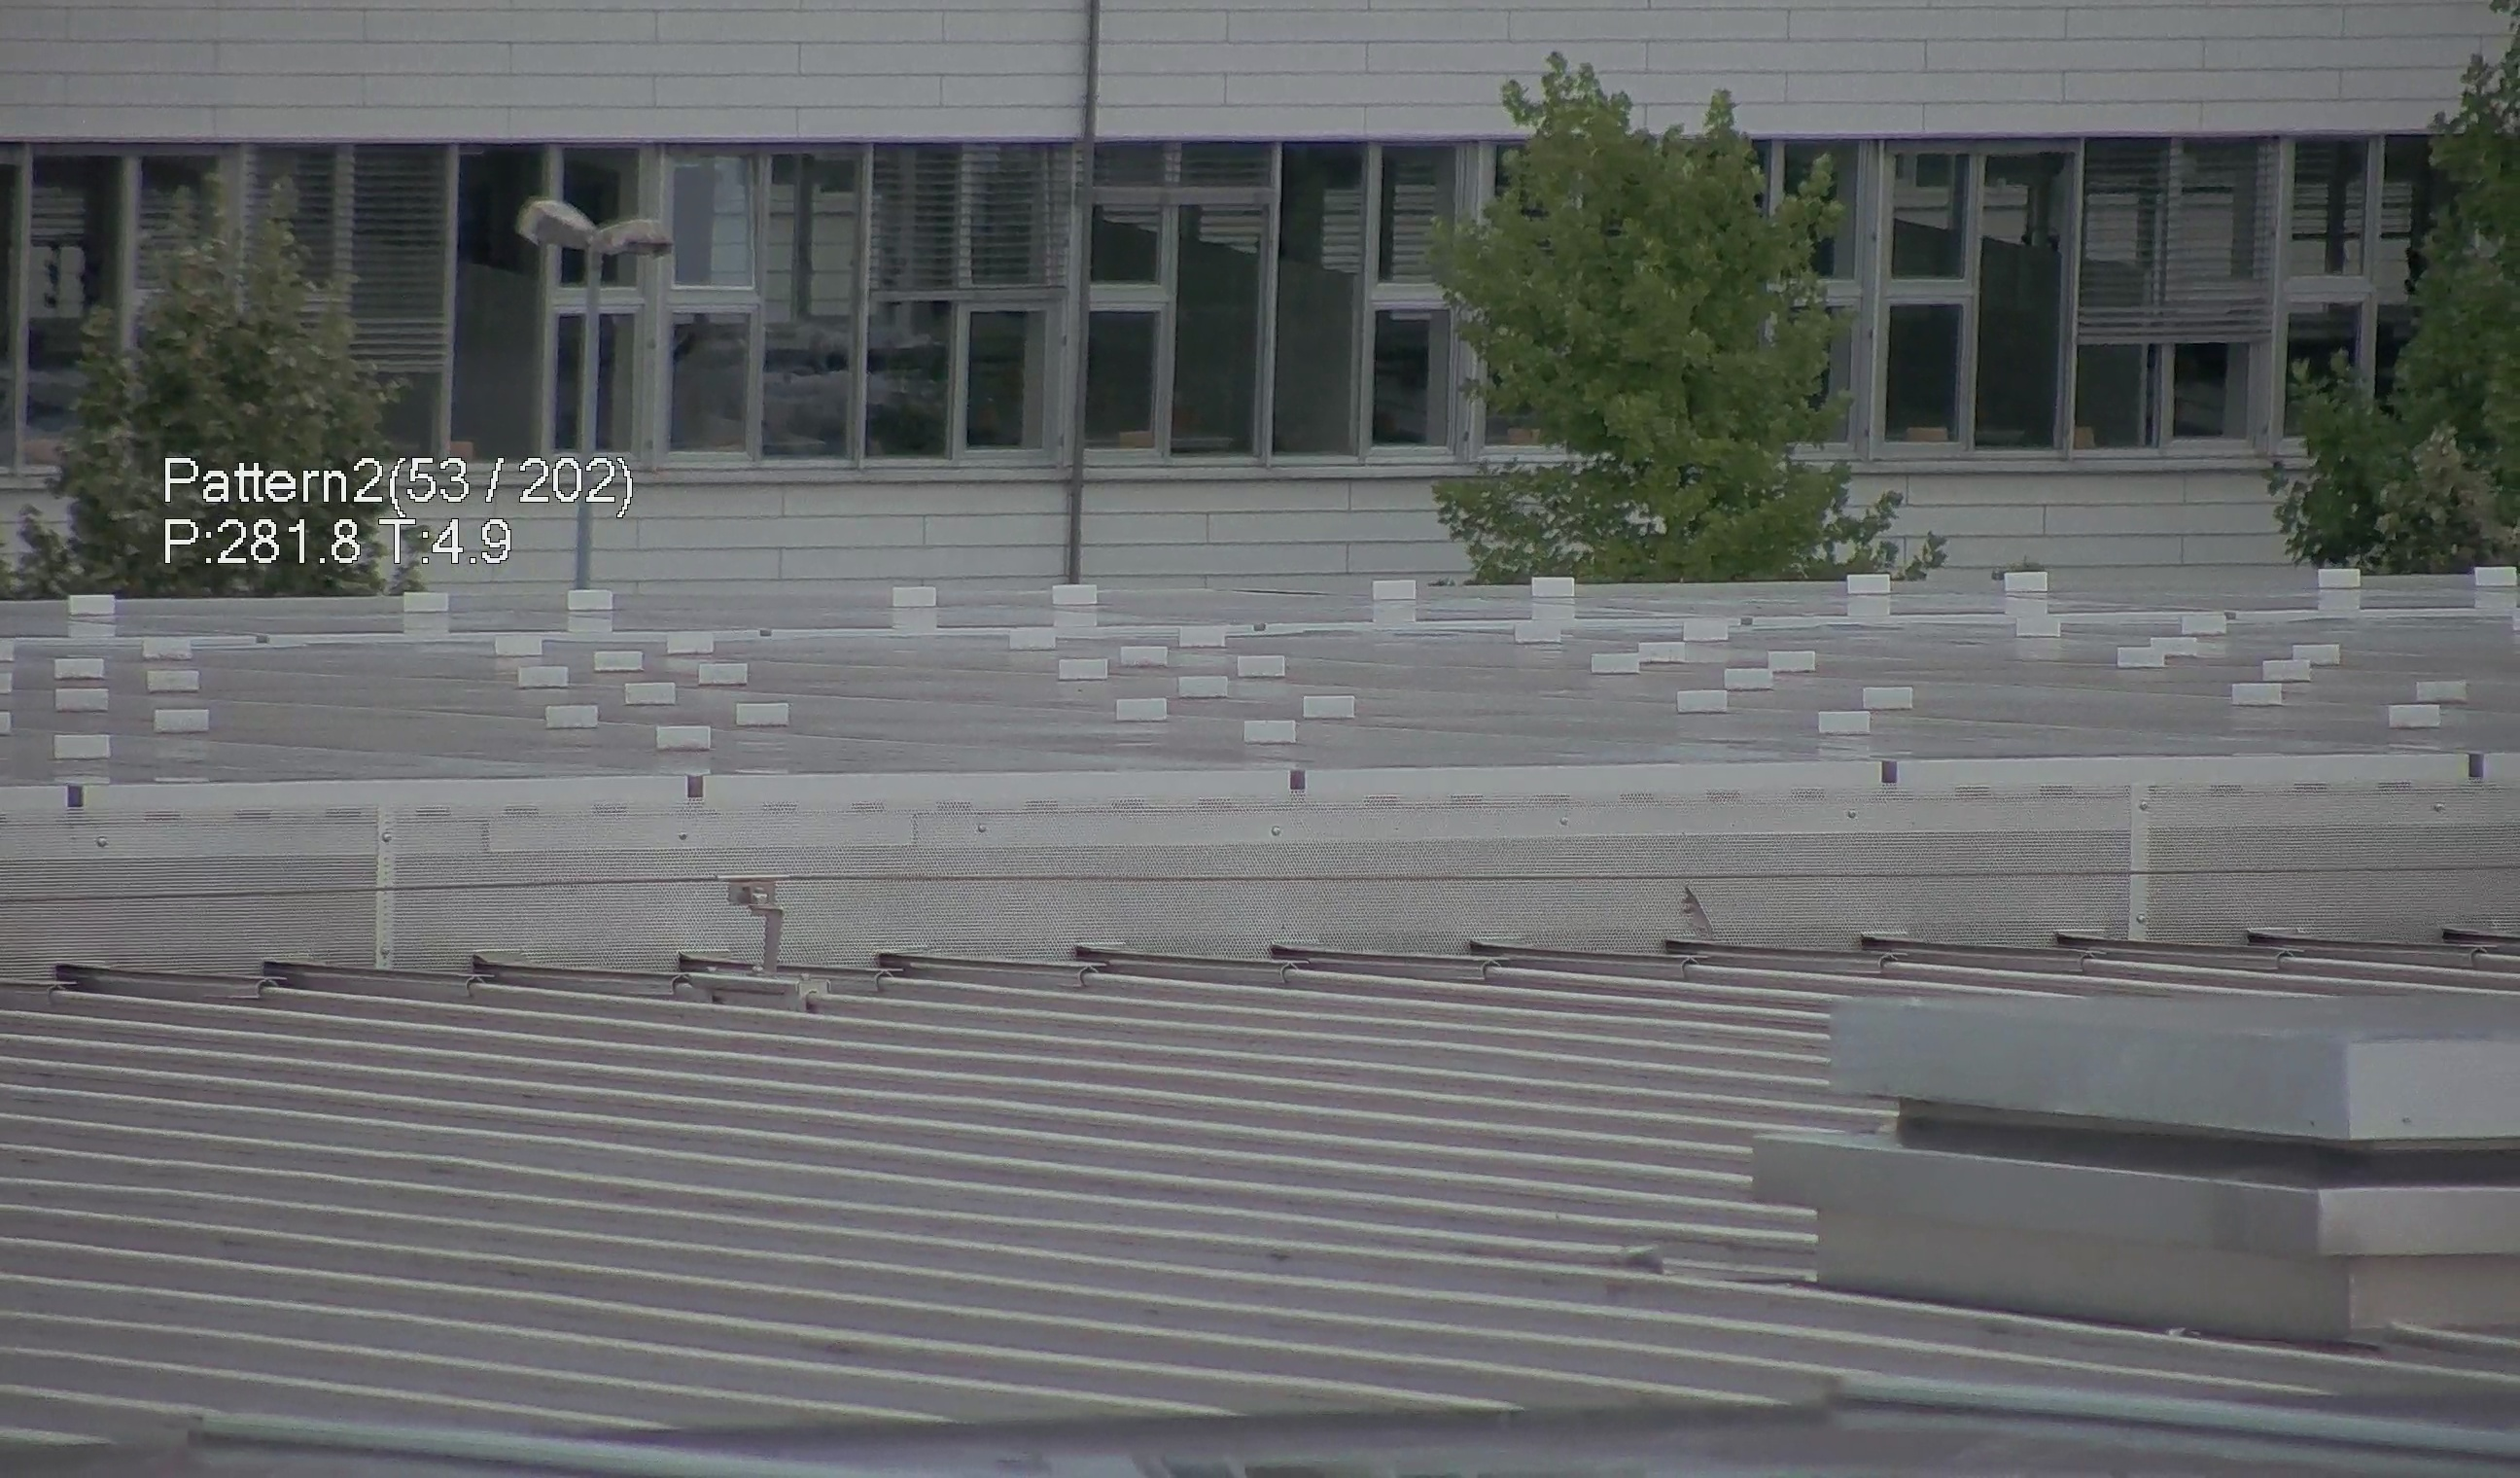Other: (1669, 866, 1734, 962)
